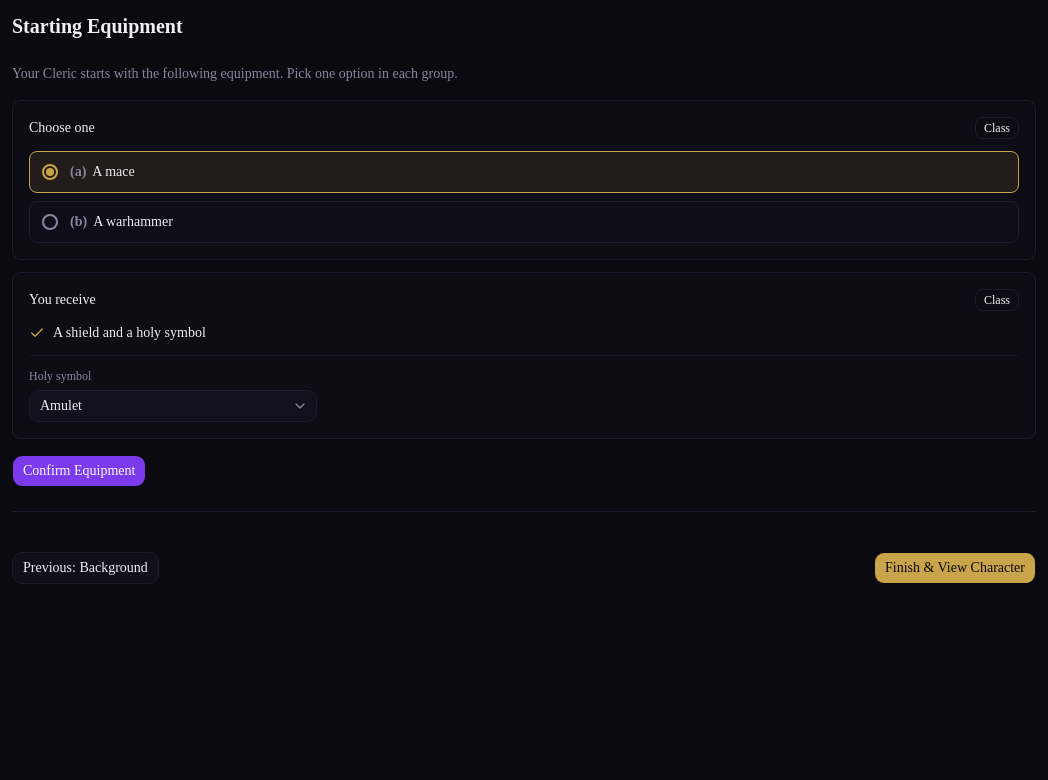
Scenario: EquipmentStepClient › grants the selected items on confirm and marks the step confirmed
Click the button "Confirm Equipment": [79, 471] box top-left (12, 455), bottom-right (146, 487)
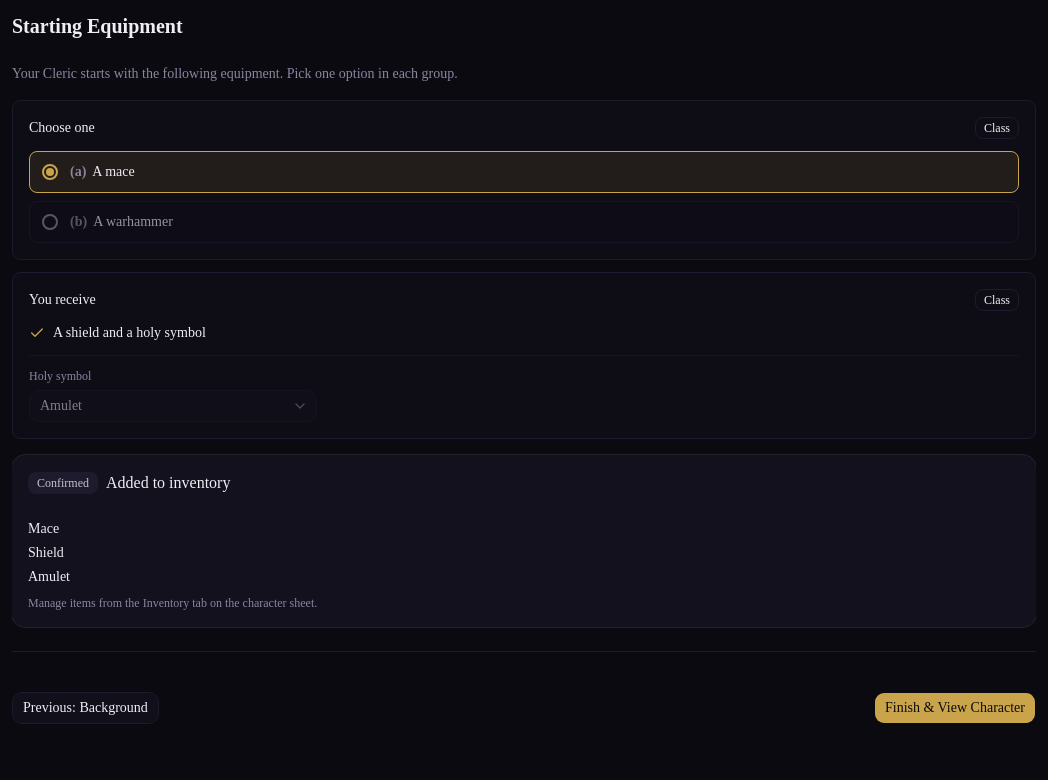
Expected: the button "(a)A mace" is disabled, top-left (29, 151), bottom-right (1019, 193)
Now the text "Added to inventory" is shown, box top-left (106, 471), bottom-right (230, 495)
